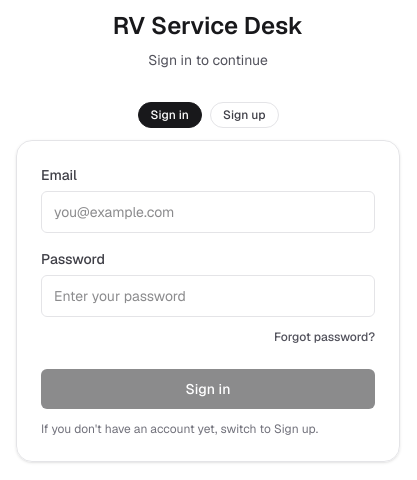
Test: LoginScreen forgot-password flow › renders the forgot-password form from the login screen
Click the button with test id "forgot-password-link" at (324, 337), box x1=274 y1=329 x2=375 y2=345
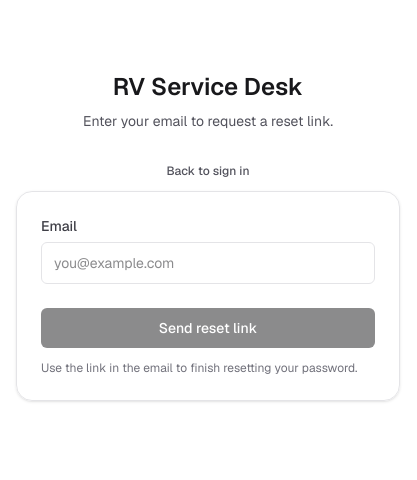
Check: the button with test id "forgot-password-submit-button" is shown, box x1=41 y1=308 x2=375 y2=348
Check: the button with test id "forgot-password-back-link" is shown, box x1=166 y1=163 x2=250 y2=179
Check: the password field with test id "login-password-input" is gone
